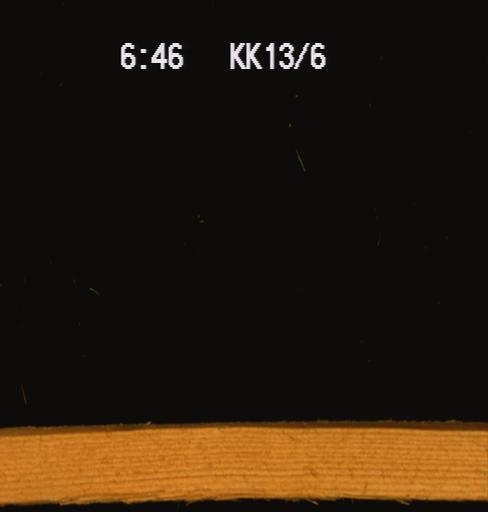wave: (0, 483, 411, 504)
